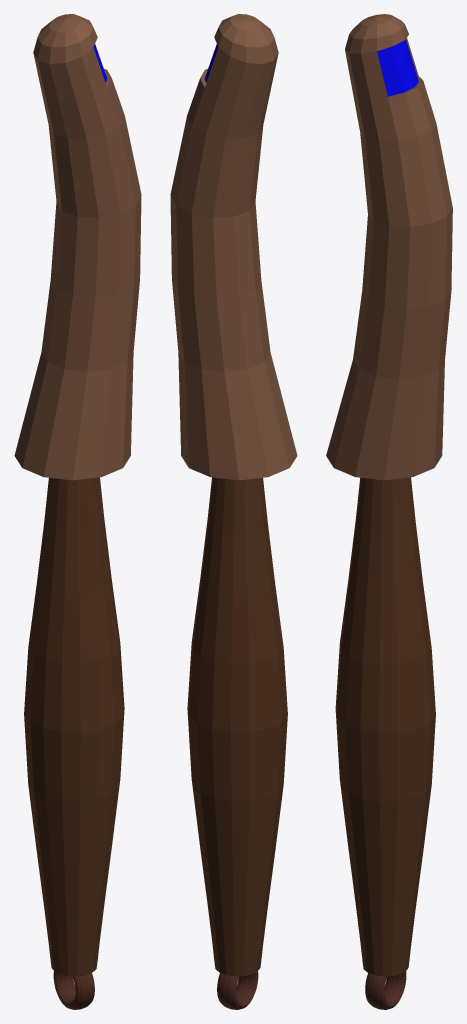
File: Wand 141.glb
The picture shows the model from 3 angles, left to right: view 1: azimuth 30°, elevation 25°; view 2: azimuth 150°, elevation 25°; view 3: azimuth 330°, elevation 25°; orthographic projection.
Visible parts, largest first — view 1: GeneratedWand; view 2: GeneratedWand; view 3: GeneratedWand.
Part boxes in pixels (box(x1,y1,x2,y2)): GeneratedWand: box(14, 14, 141, 1009); GeneratedWand: box(170, 14, 297, 1009); GeneratedWand: box(326, 14, 452, 1009).
Size of the model in its own units: 0.0644 by 0.5366 by 0.0572.
